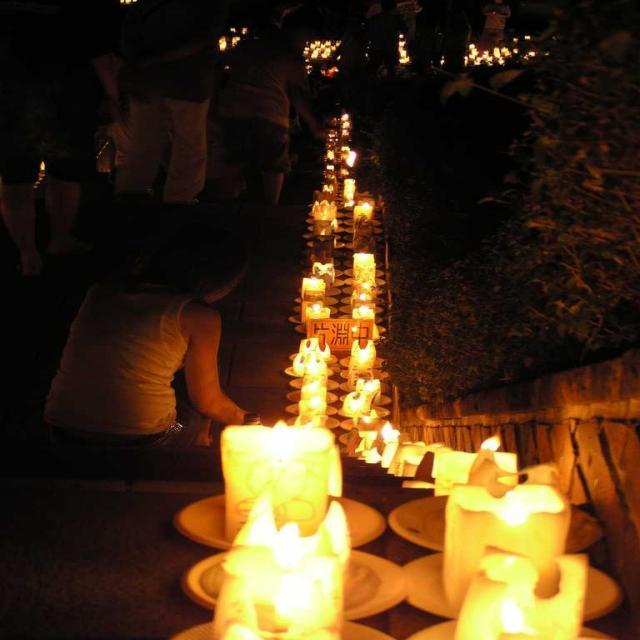Fire: (229, 424, 346, 620), (485, 592, 548, 634), (485, 490, 550, 530)
